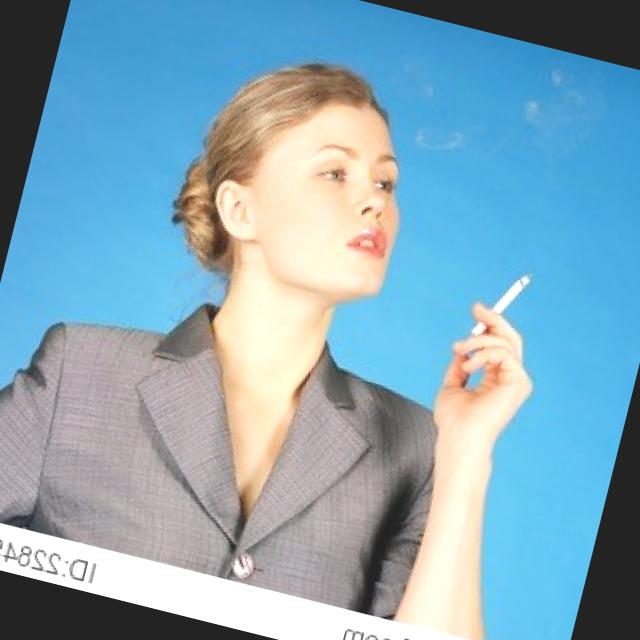smoke: (460, 259, 541, 357)
